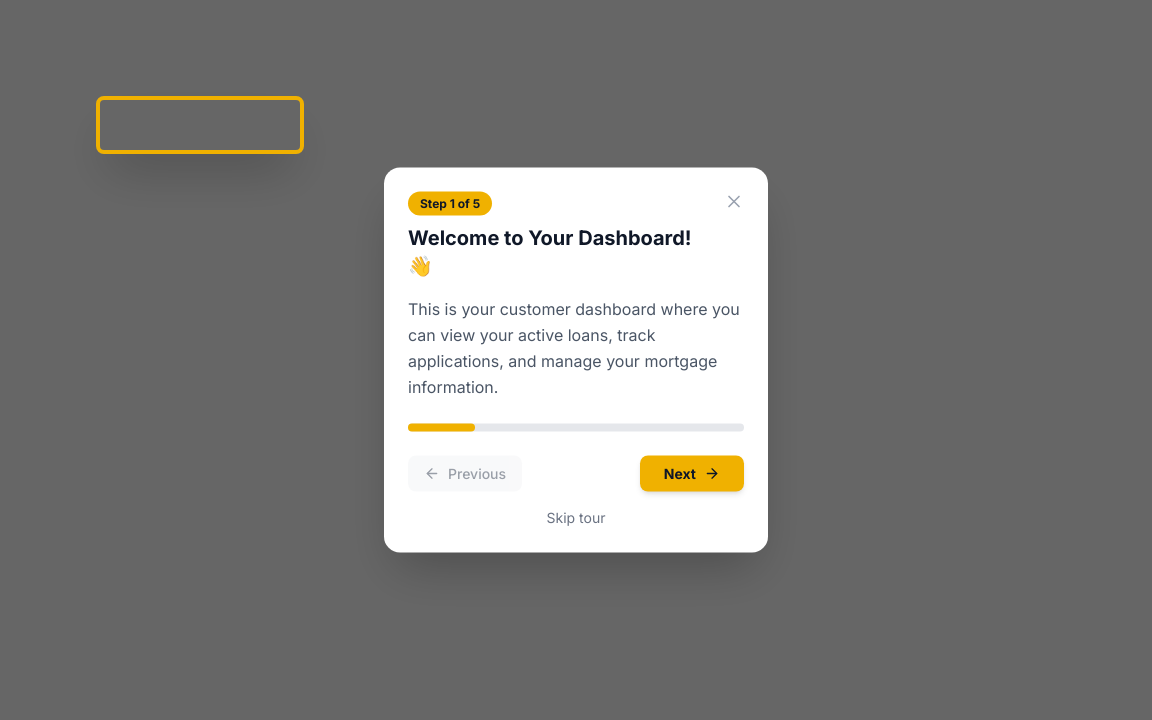
Test: DashboardWalkthrough › should navigate to previous step
The width and height of the screenshot is (1152, 720).
Click the button "Next" at coordinates (692, 474), box [640,456,744,492]
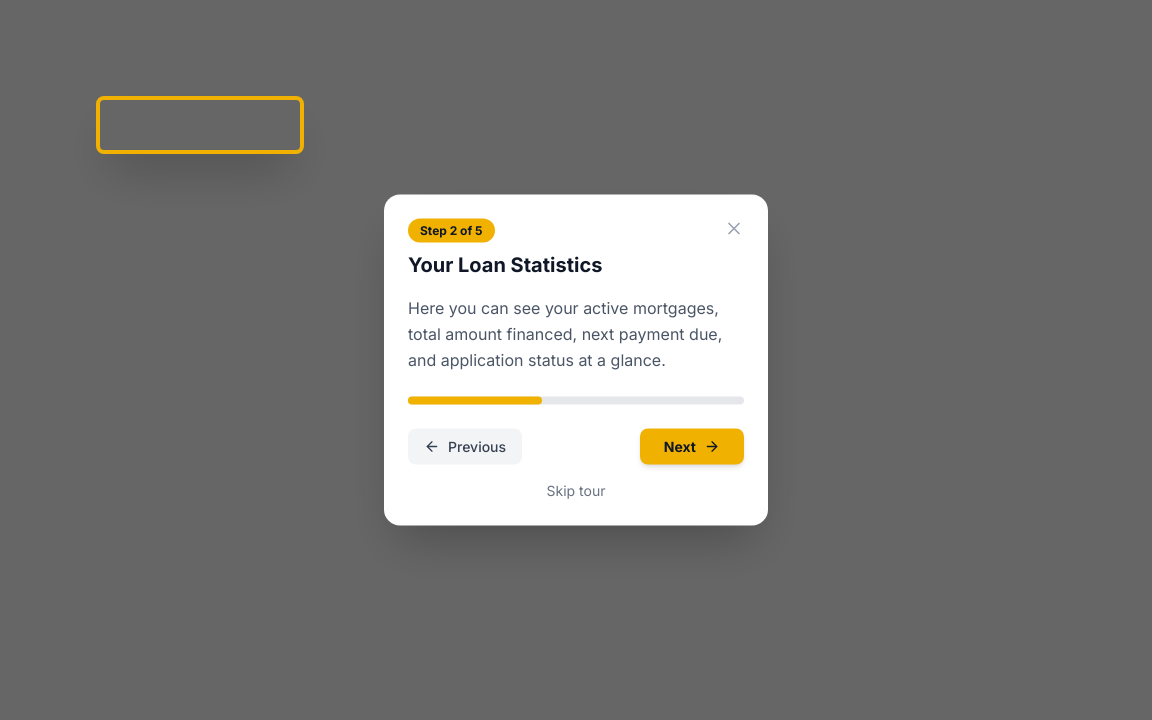
Expected: the button "Previous" is enabled
Click the button "Previous" at coordinates (465, 446), box [408,428,522,464]
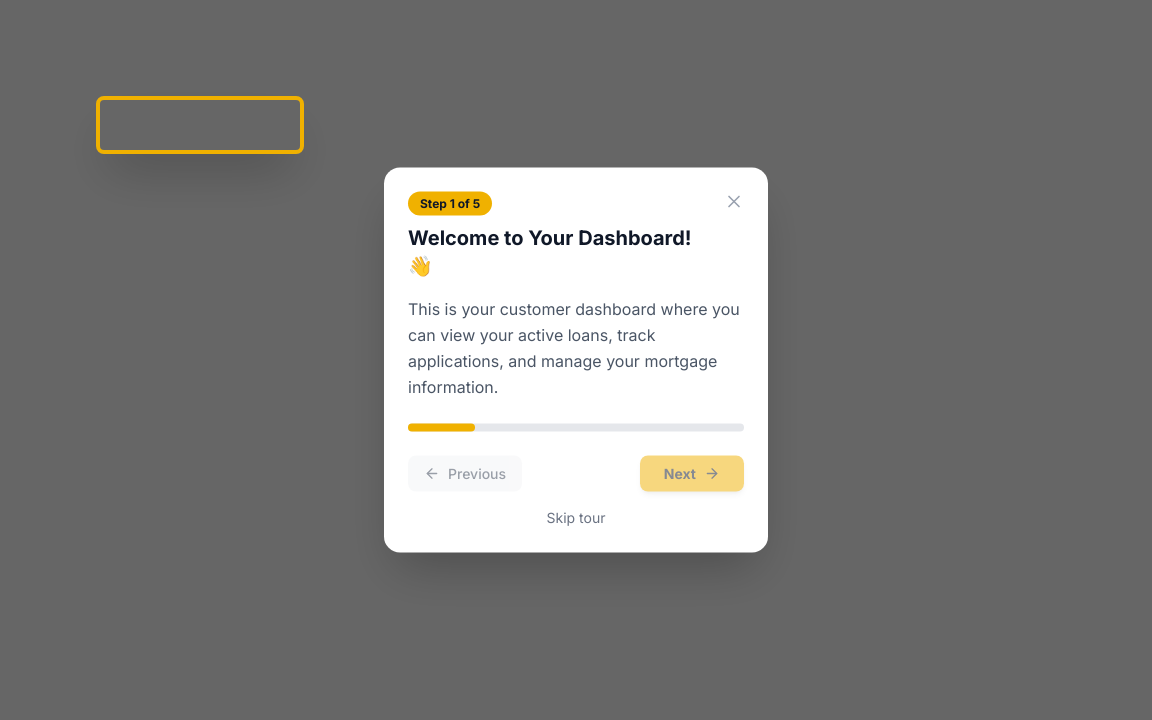
Expected: the text "Step 1 of 5" is shown, [408,192,492,216]
